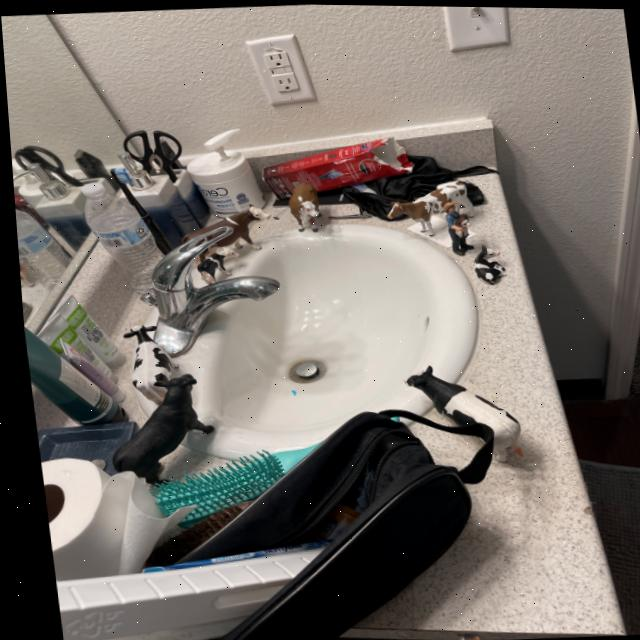cow: (86, 364, 222, 497), (396, 350, 531, 469), (103, 318, 185, 411), (382, 174, 476, 247), (175, 202, 273, 262), (190, 242, 242, 286), (283, 180, 320, 234), (464, 243, 507, 287), (448, 210, 467, 235)
person: (432, 198, 471, 257)
